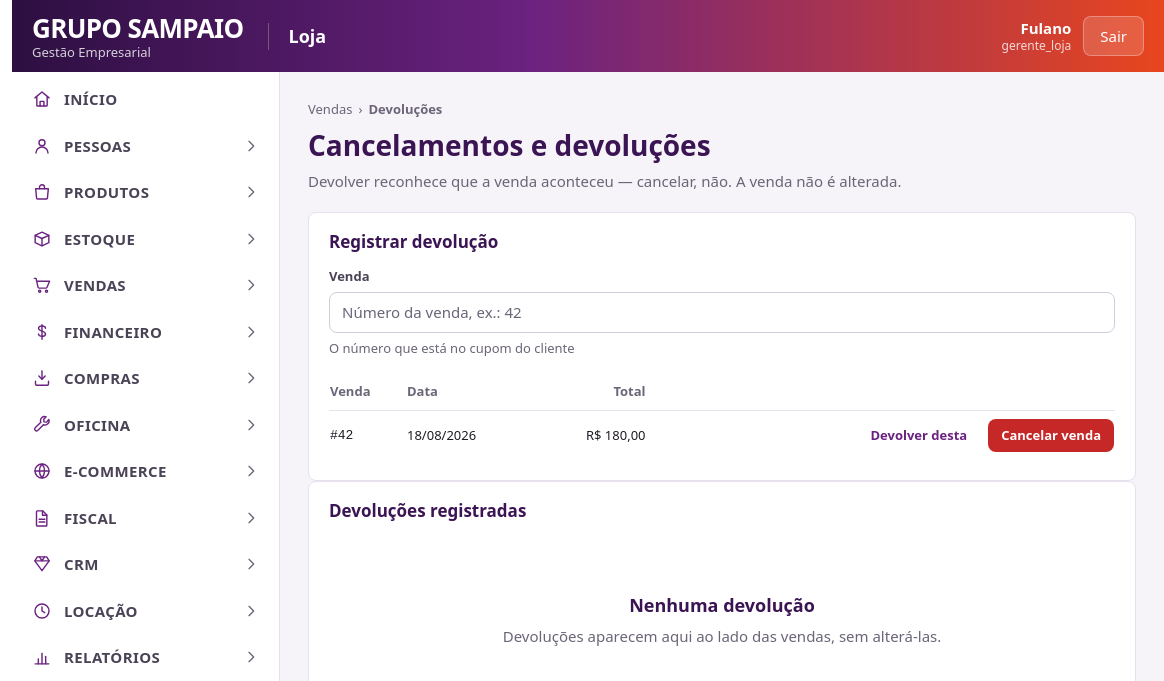
Test: o dinheiro sai da gaveta do caixa deste computador (GAP-PRD-161) › operação com caixas e este computador sem caixa escolhido: explica, e nada é enviado
Click the button "Devolver desta": coordinates (919, 435) top-left (858, 418), bottom-right (980, 452)
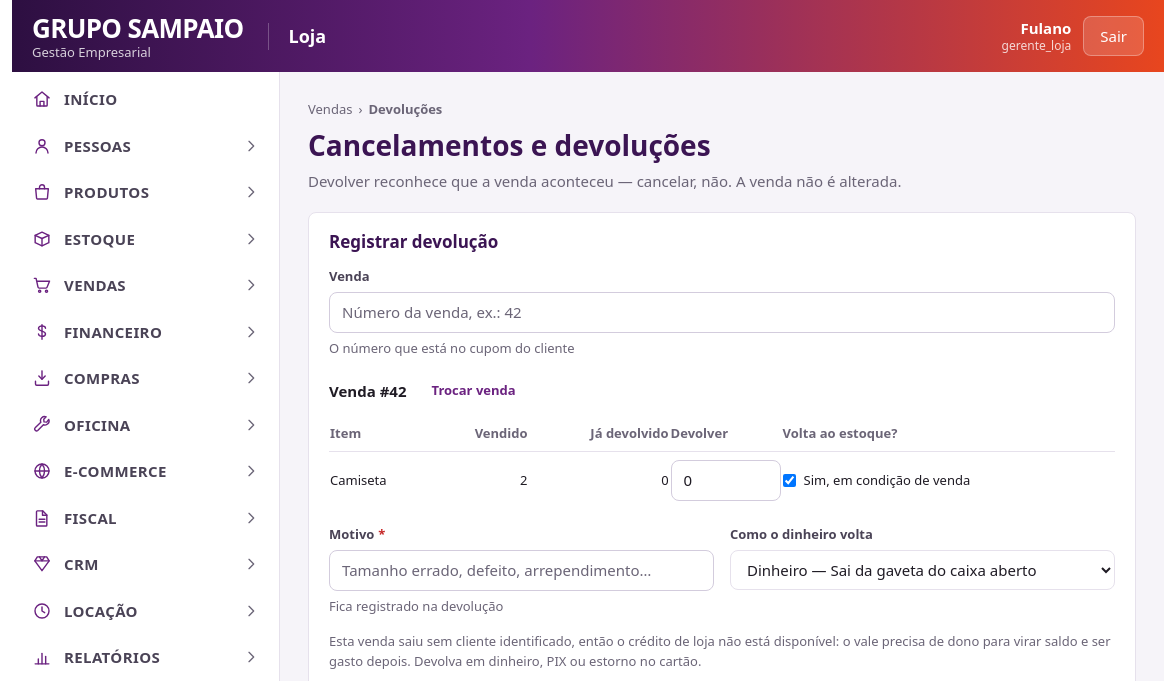
Result: the text "Camiseta" is shown at top-left (329, 452), bottom-right (432, 508)
Replace the text in the number field named "Devolver quantos de Camiseta" with "1": coordinates (726, 480) top-left (671, 460), bottom-right (781, 500)
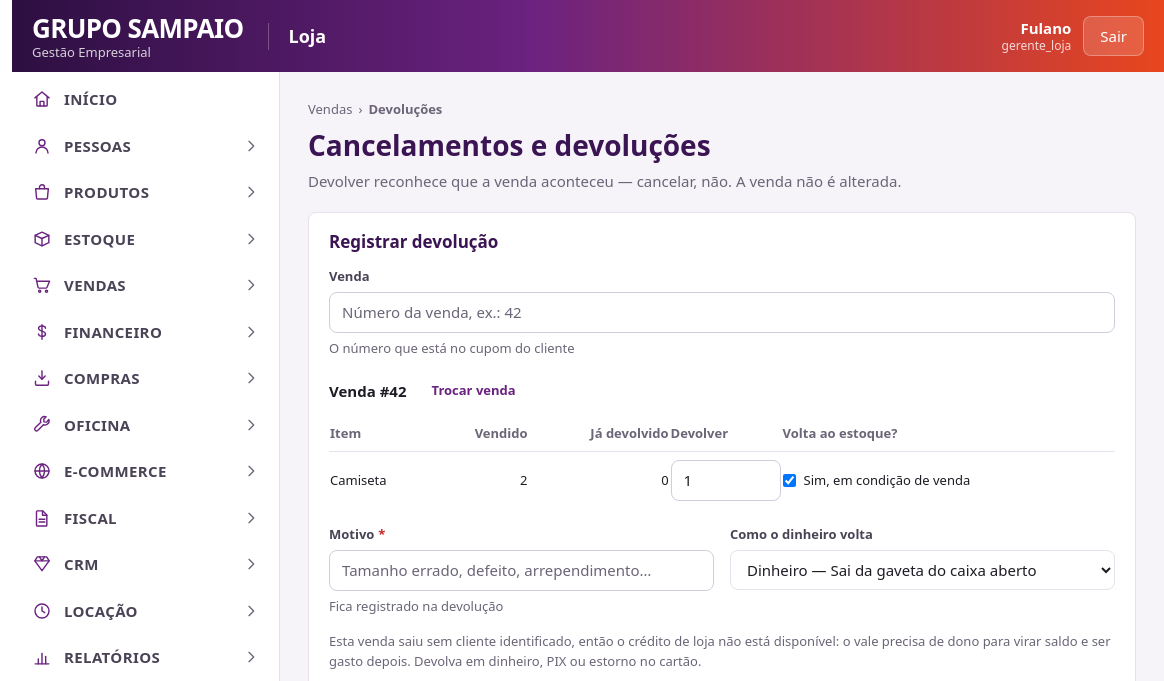
In the field labelled "Motivo*": coordinates (522, 570) top-left (329, 550), bottom-right (714, 590), type "Tamanho errado"
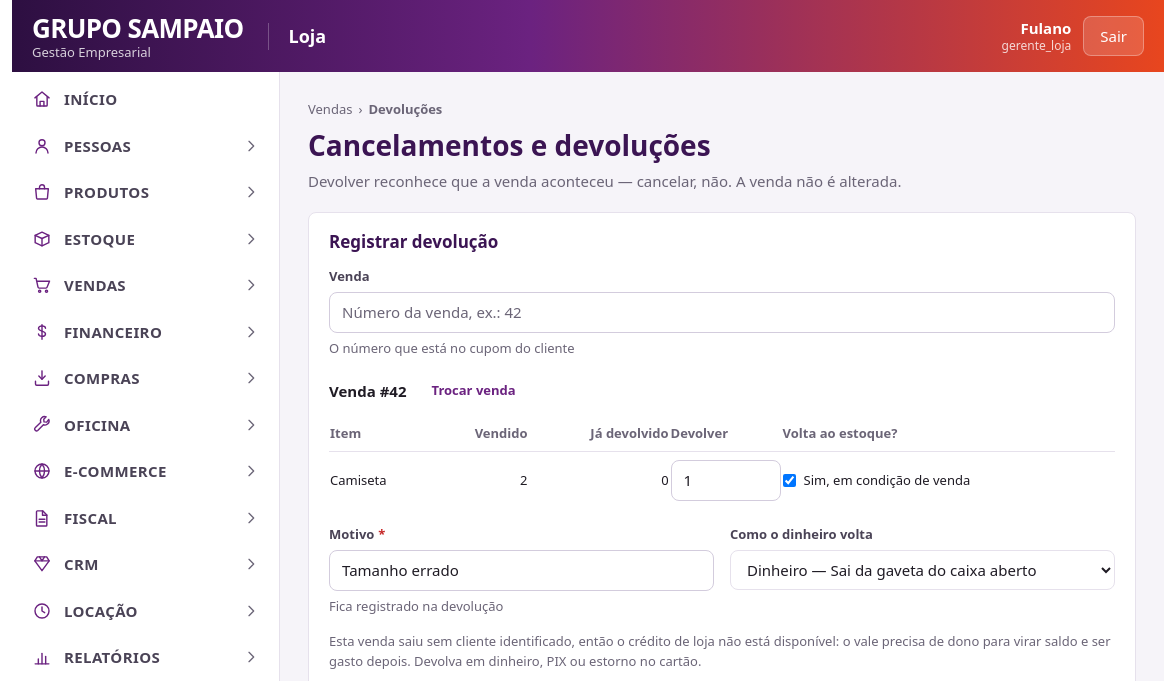
Select "Dinheiro — Sai da gaveta do caixa aberto" in the dropdown labelled "Como o dinheiro volta": coordinates (922, 570) top-left (730, 550), bottom-right (1115, 590)
(page scrolled)
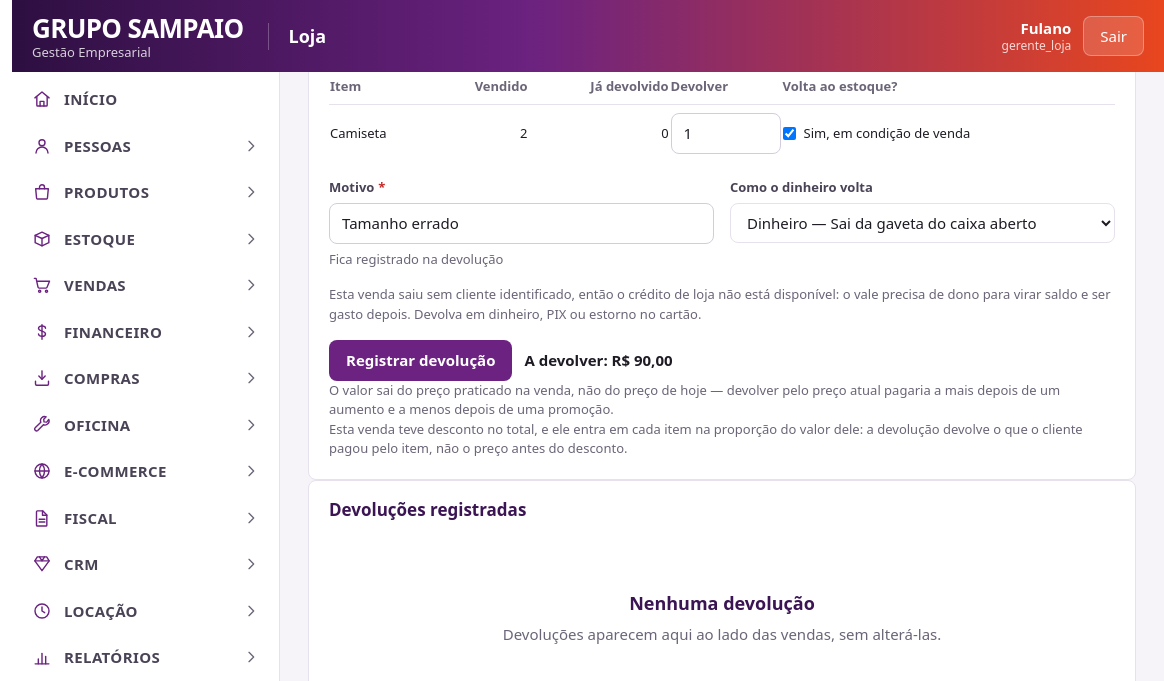
Click the button "Registrar devolução": coordinates (421, 360) top-left (329, 340), bottom-right (512, 380)
(page scrolled)
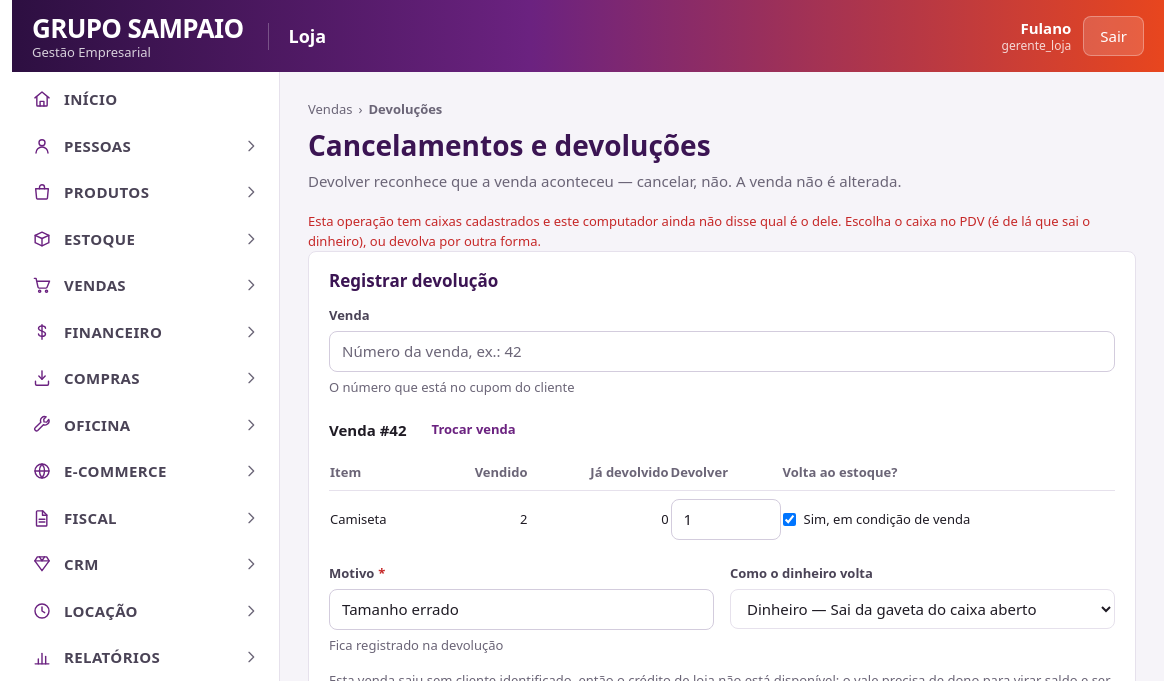
Result: the text "Escolha o caixa no PDV" is shown at top-left (308, 212), bottom-right (1090, 250)
